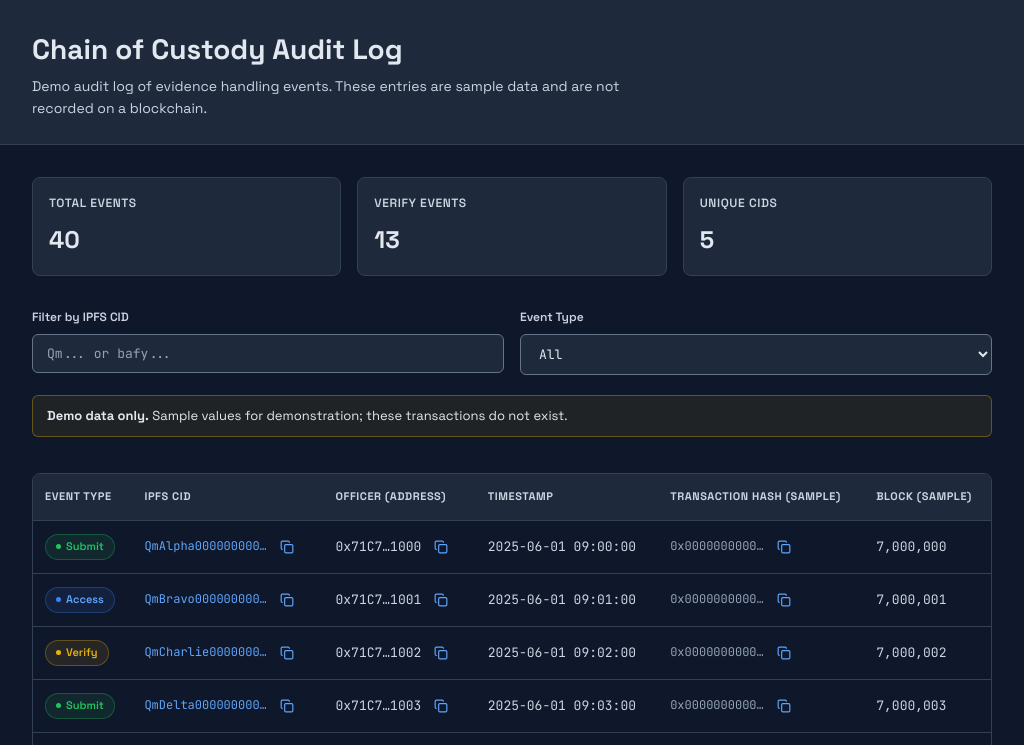
it: ChainOfCustody: copy buttons › reports a failed copy instead of silently pretending it worked
The image size is (1024, 745).
Click the button named "Copy transaction hash for event LOG-001" at (784, 547), box [770,533,798,561]
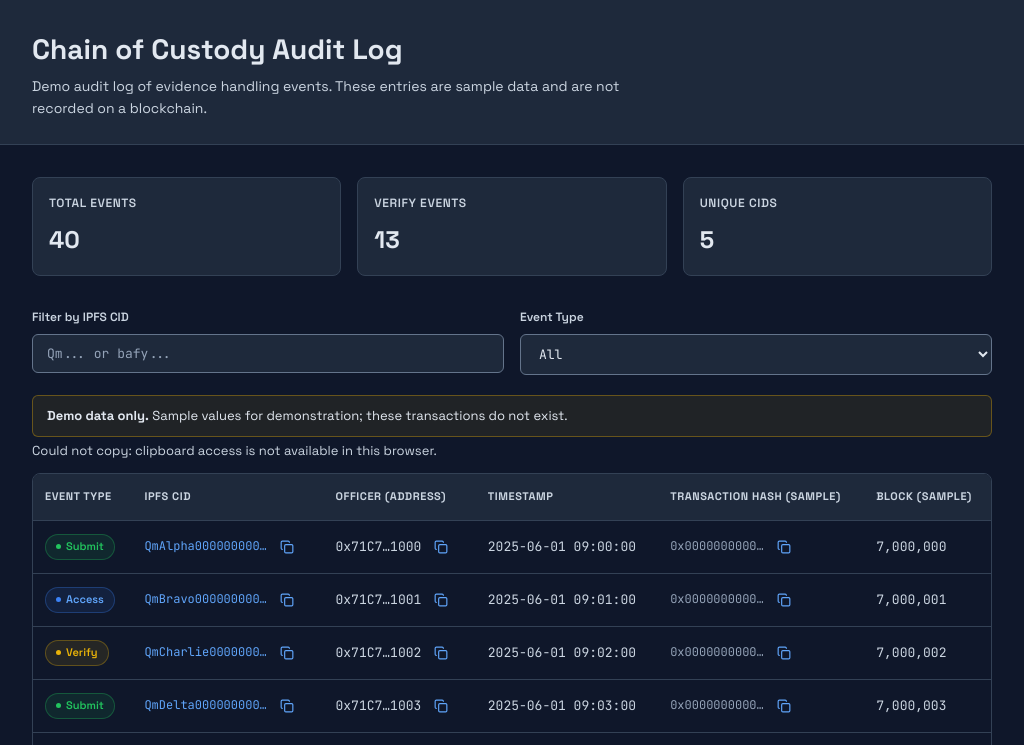
Check: the message shows "Could not copy", box [32,442,437,459]
